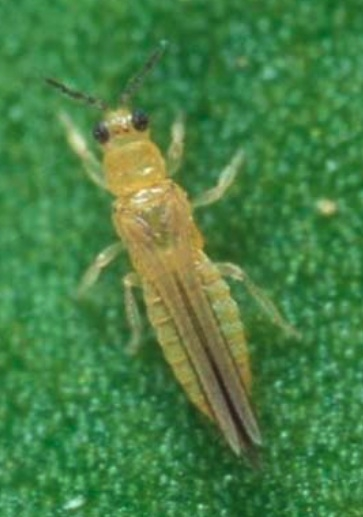Thrips: (41, 25, 300, 476)
